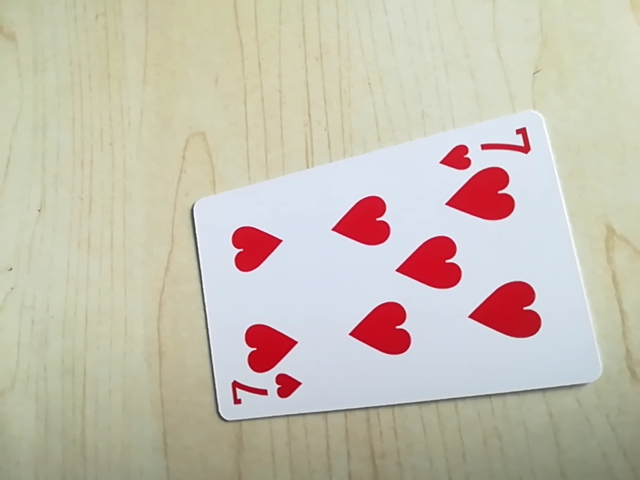hx 7: (436, 125, 538, 168), (223, 373, 308, 414)
